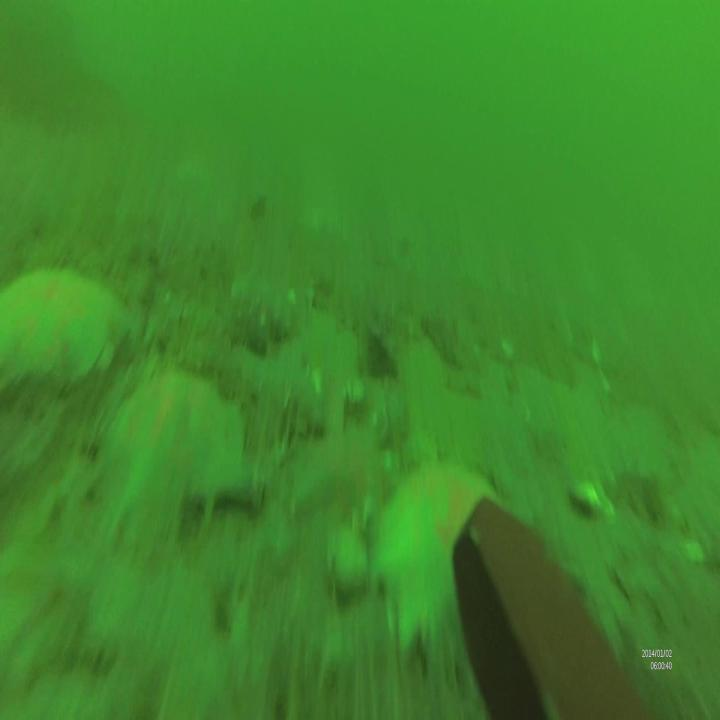starfish: (381, 461, 504, 648), (107, 380, 248, 539), (0, 276, 131, 379)
